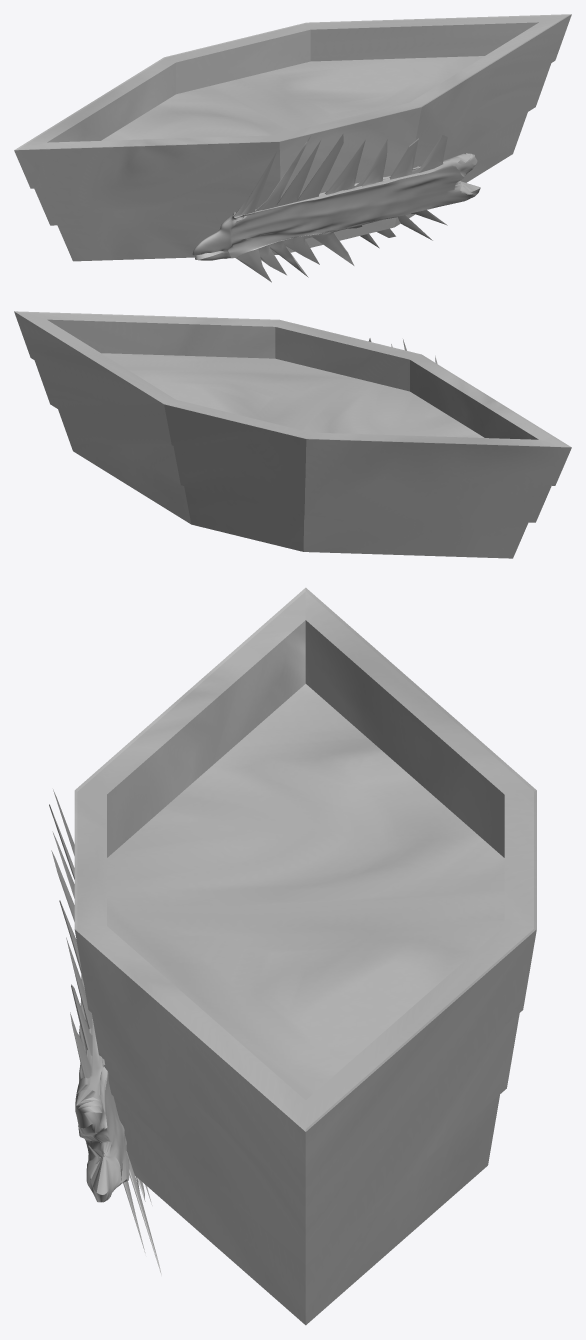
File: Boat.obj
3 views of the same model, one above another, from view 1: azimuth 30°, elevation 25°; view 2: azimuth 150°, elevation 25°; view 3: azimuth 270°, elevation 25° (orthographic). The views are drawn at different scales.
Parts seen in each view (by area): view 1: Boat, Cube; view 2: Boat; view 3: Boat, Cube.
Part boxes in pixels (x1,y1,x2,y2): Boat: (14,14,571,261); Cube: (192,134,480,282); Boat: (14,311,571,558); Boat: (74,587,536,1325); Cube: (49,789,161,1275).
Size of the model in its own units: 3.97 by 1.12 by 1.5.
